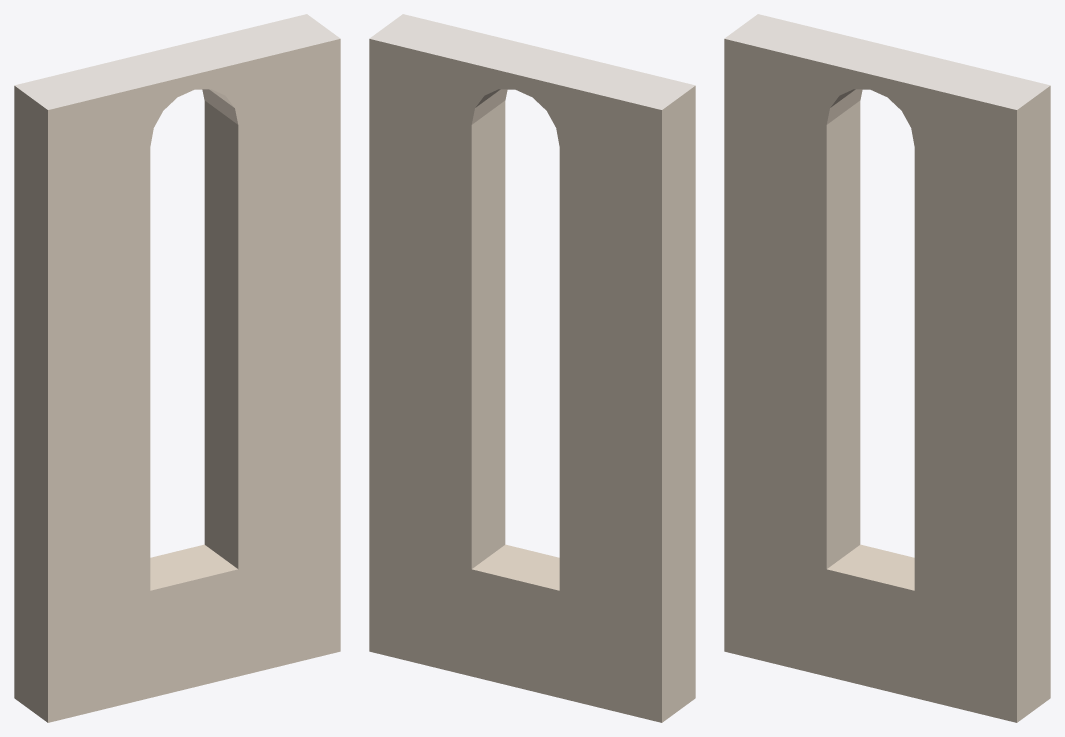
The model's file is temple_Wall_Straight_Window_Tall.glb.
3 renders of one model, left to right at view 1: azimuth 30°, elevation 25°; view 2: azimuth 150°, elevation 25°; view 3: azimuth 330°, elevation 25°, orthographic.
Parts seen in each view (by area): view 1: object1; view 2: object1; view 3: object1.
Part boxes in pixels (x1,y1,x2,y2): object1: [14, 14, 340, 722]; object1: [369, 14, 695, 722]; object1: [724, 14, 1050, 722].
Bounding box in the file's own units: 1 × 2 × 0.2.
